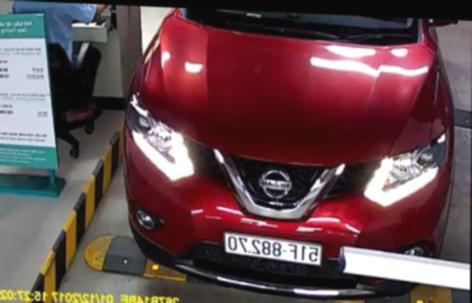License_Plate: (224, 234, 325, 271)
